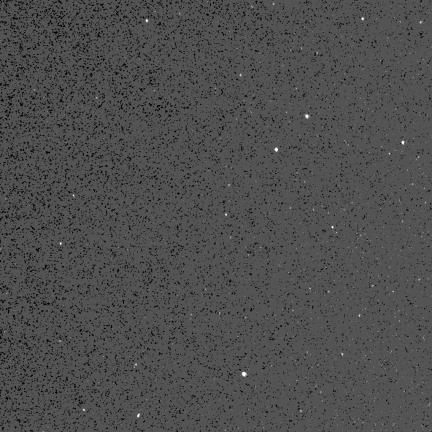blob: (242, 372, 247, 377), (137, 414, 141, 418), (305, 114, 309, 118), (60, 242, 63, 246), (362, 17, 365, 21), (332, 226, 335, 230), (275, 148, 278, 151), (240, 74, 242, 77), (402, 141, 404, 144), (146, 19, 148, 22)
